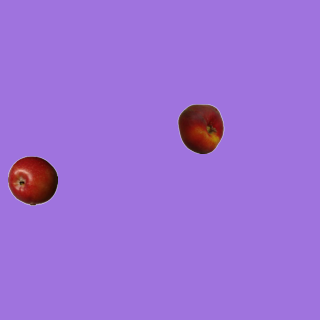Apple Braeburn: (7, 155, 57, 205)
Nectarine Flat: (175, 103, 225, 153)
